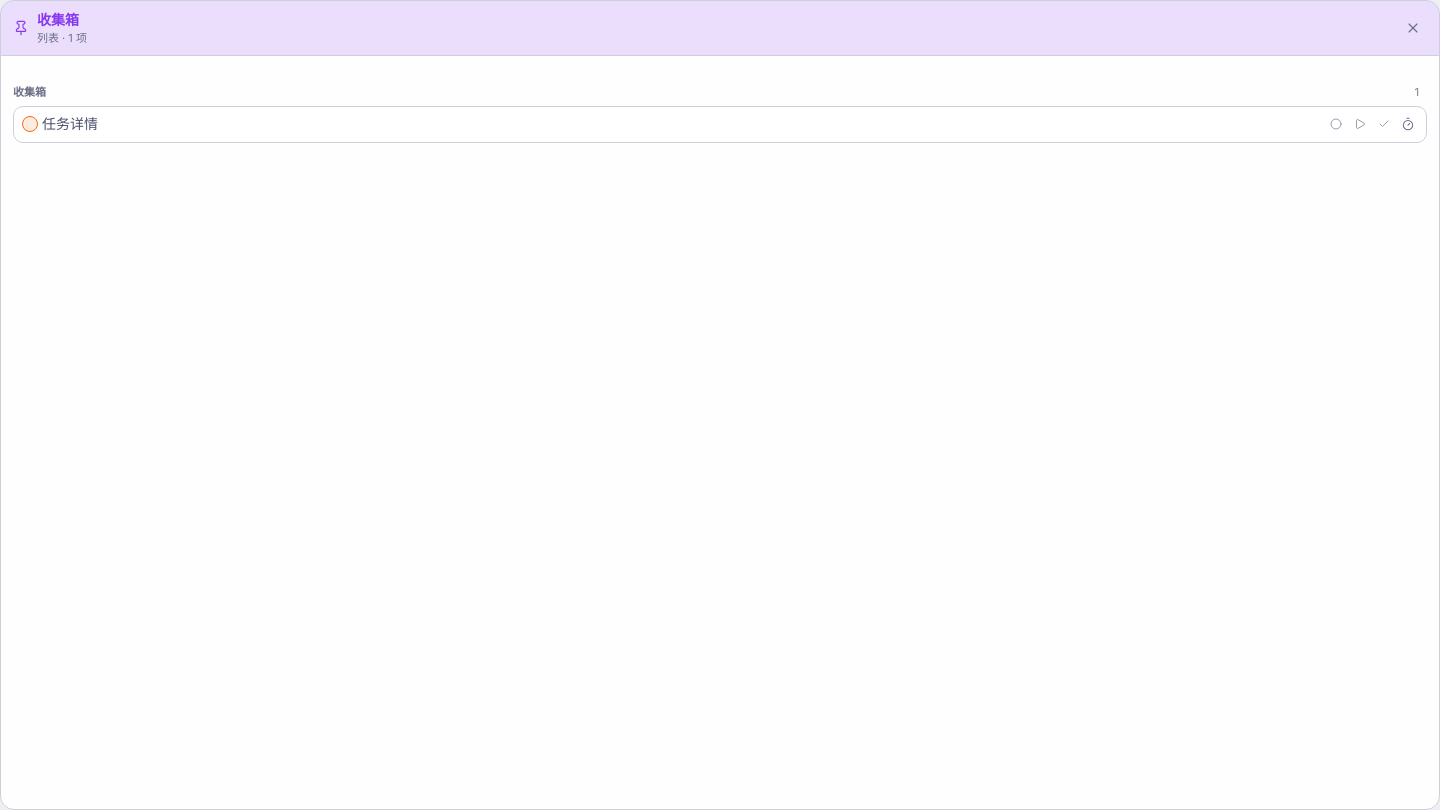
Scenario: StickyNoteWindow › 按 Escape 关闭详情，即使焦点元素阻止事件冒泡
Right-click the element with class "sticky-task" at (720, 124), box [13,106,1427,142]
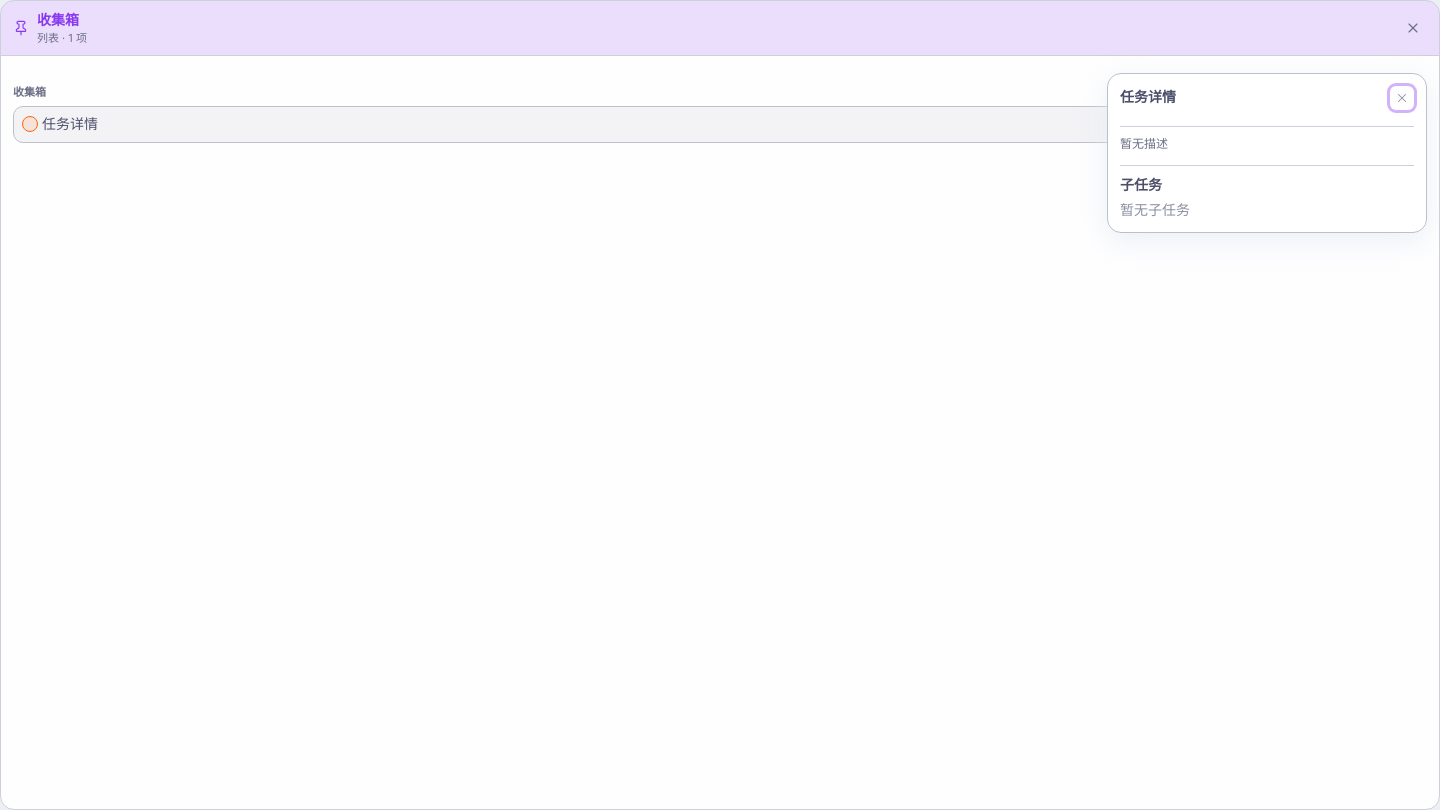
Expected: the element with class "sticky-detail" is shown, [1107,73,1427,233]
Expected: the button with class "sticky-detail__close" is shown
Press Escape in the button with class "sticky-detail__close", box [1390,86,1414,110]
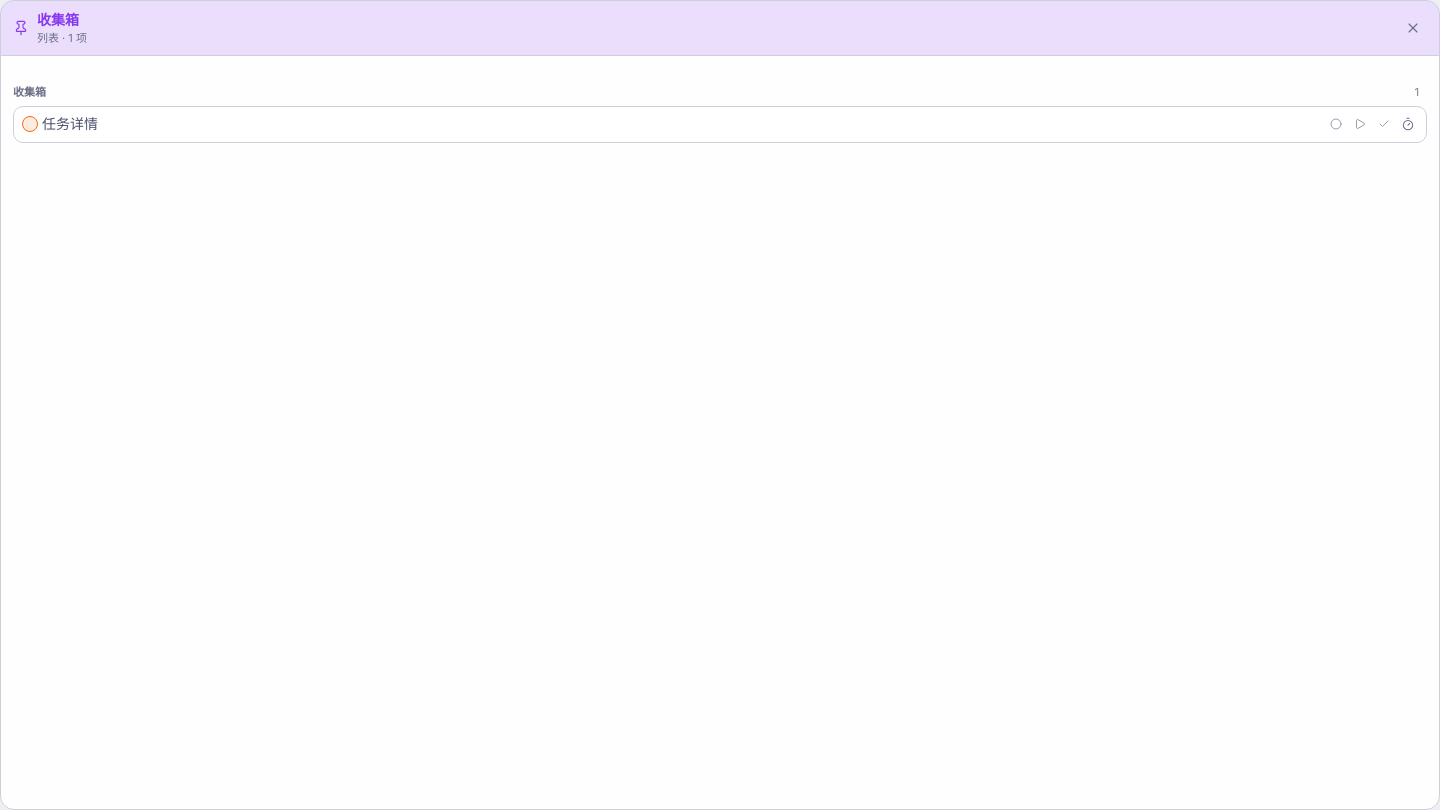
Expected: the element with class "sticky-detail" is gone
